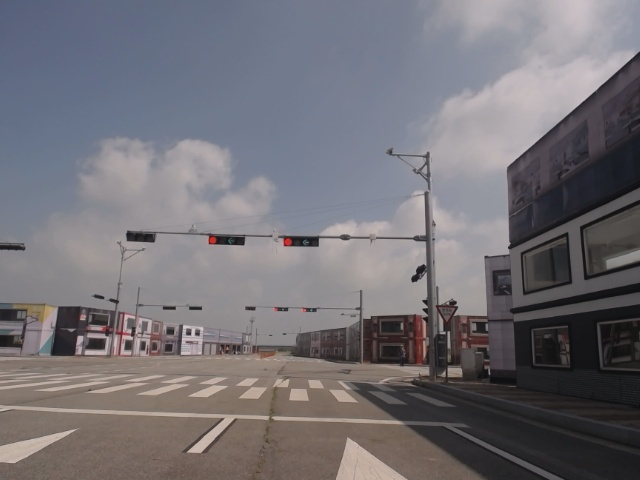left_green_4: (208, 235, 245, 246), (284, 237, 319, 247)
